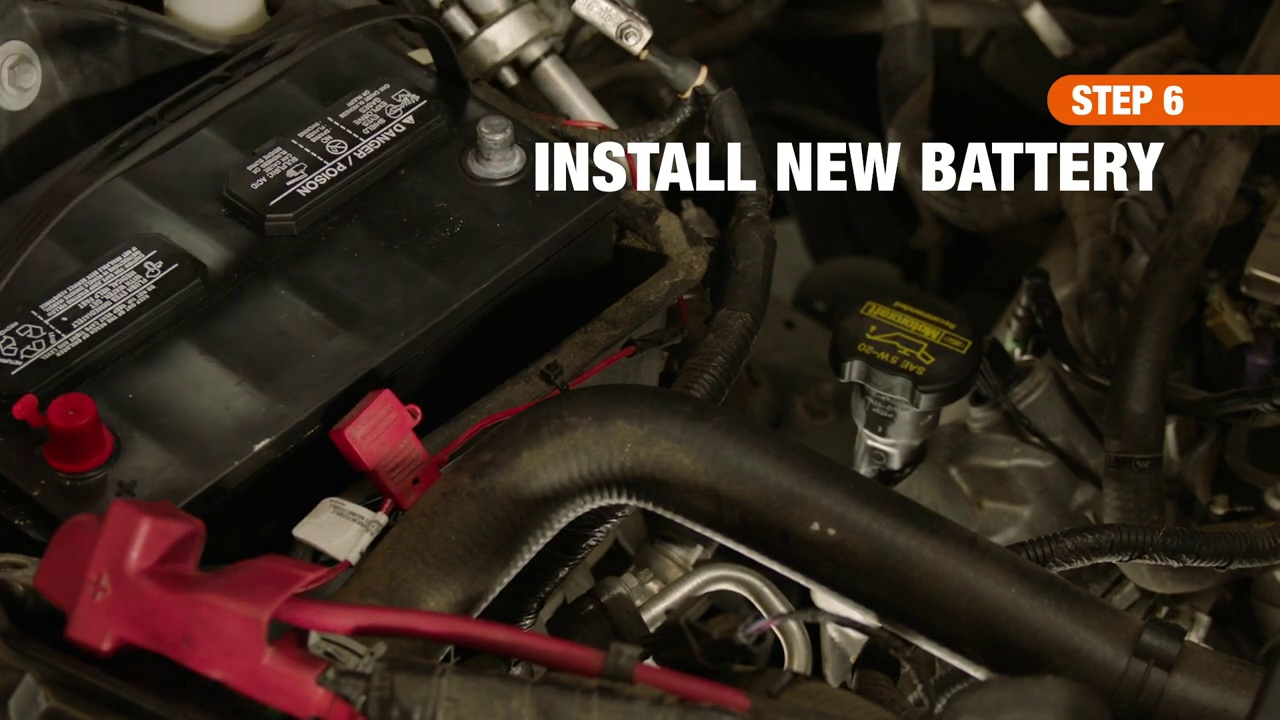battery: (11, 2, 634, 586)
neg_disconnected: (436, 95, 533, 199)
pos_disconnected: (17, 362, 235, 636)
